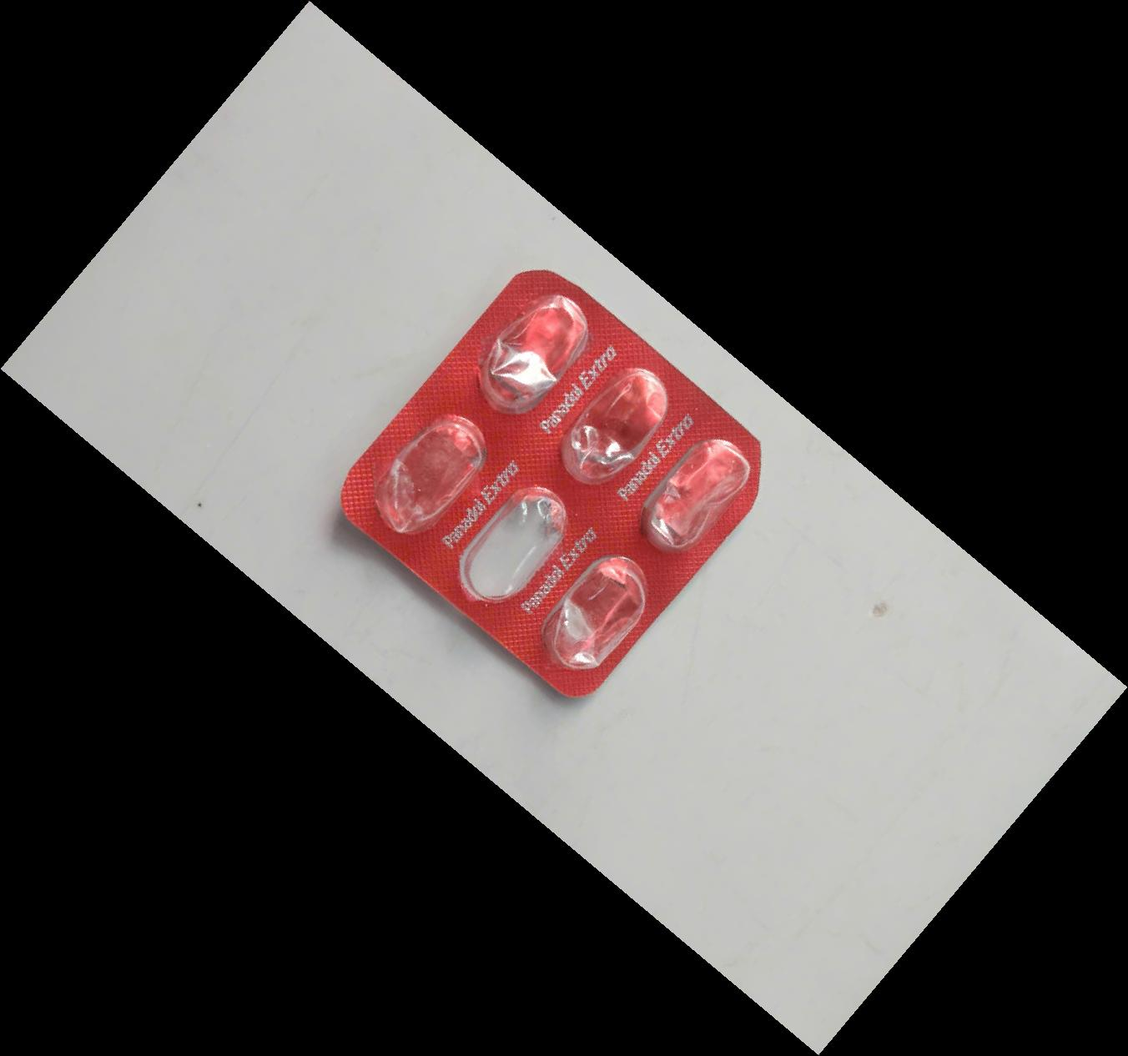Empty: (445, 267, 615, 446), (540, 349, 690, 508), (440, 467, 590, 626), (522, 535, 672, 694), (352, 397, 502, 556), (619, 415, 768, 574)
